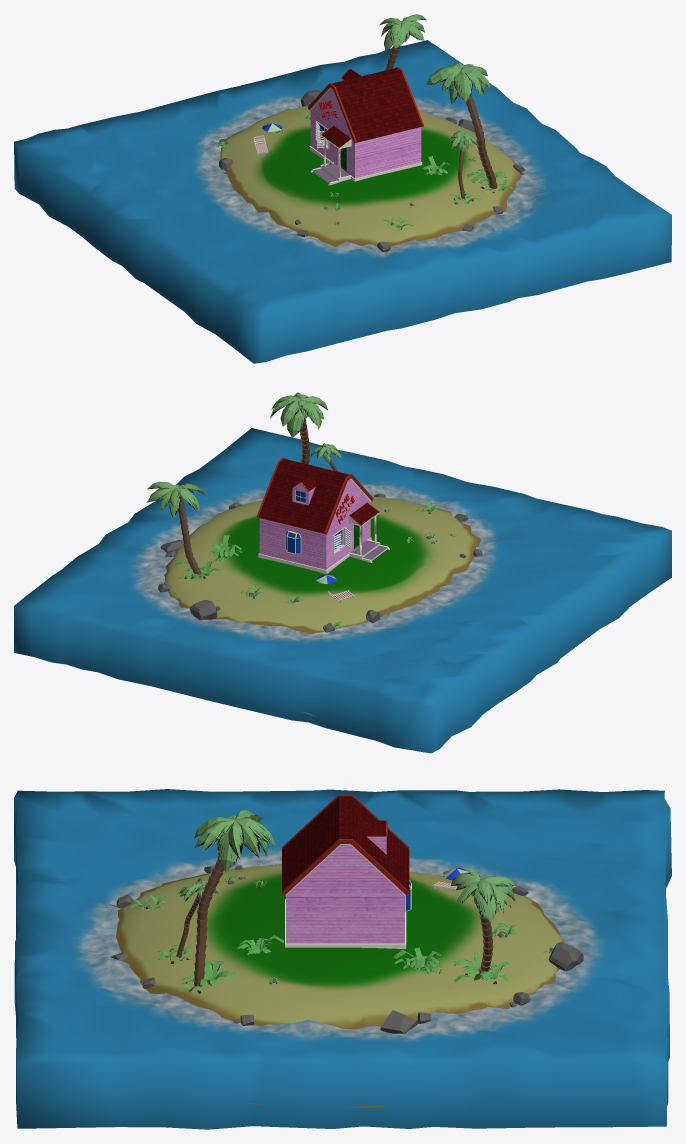
Rendered from kamehouse_34d497.fbx.
3 views of the same model, one above another, from view 1: azimuth 30°, elevation 25°; view 2: azimuth 150°, elevation 25°; view 3: azimuth 270°, elevation 25° (orthographic). The views are drawn at different scales.
Visible parts, largest first — view 1: kamehouse_34d497; view 2: kamehouse_34d497; view 3: kamehouse_34d497.
Part boxes in pixels (x1,y1,x2,y2): kamehouse_34d497: (14, 14, 671, 363); kamehouse_34d497: (14, 392, 671, 753); kamehouse_34d497: (14, 782, 671, 1129).
Size of the model in its own units: 19.98 by 7.59 by 20.
13 materials, 10 textured.
